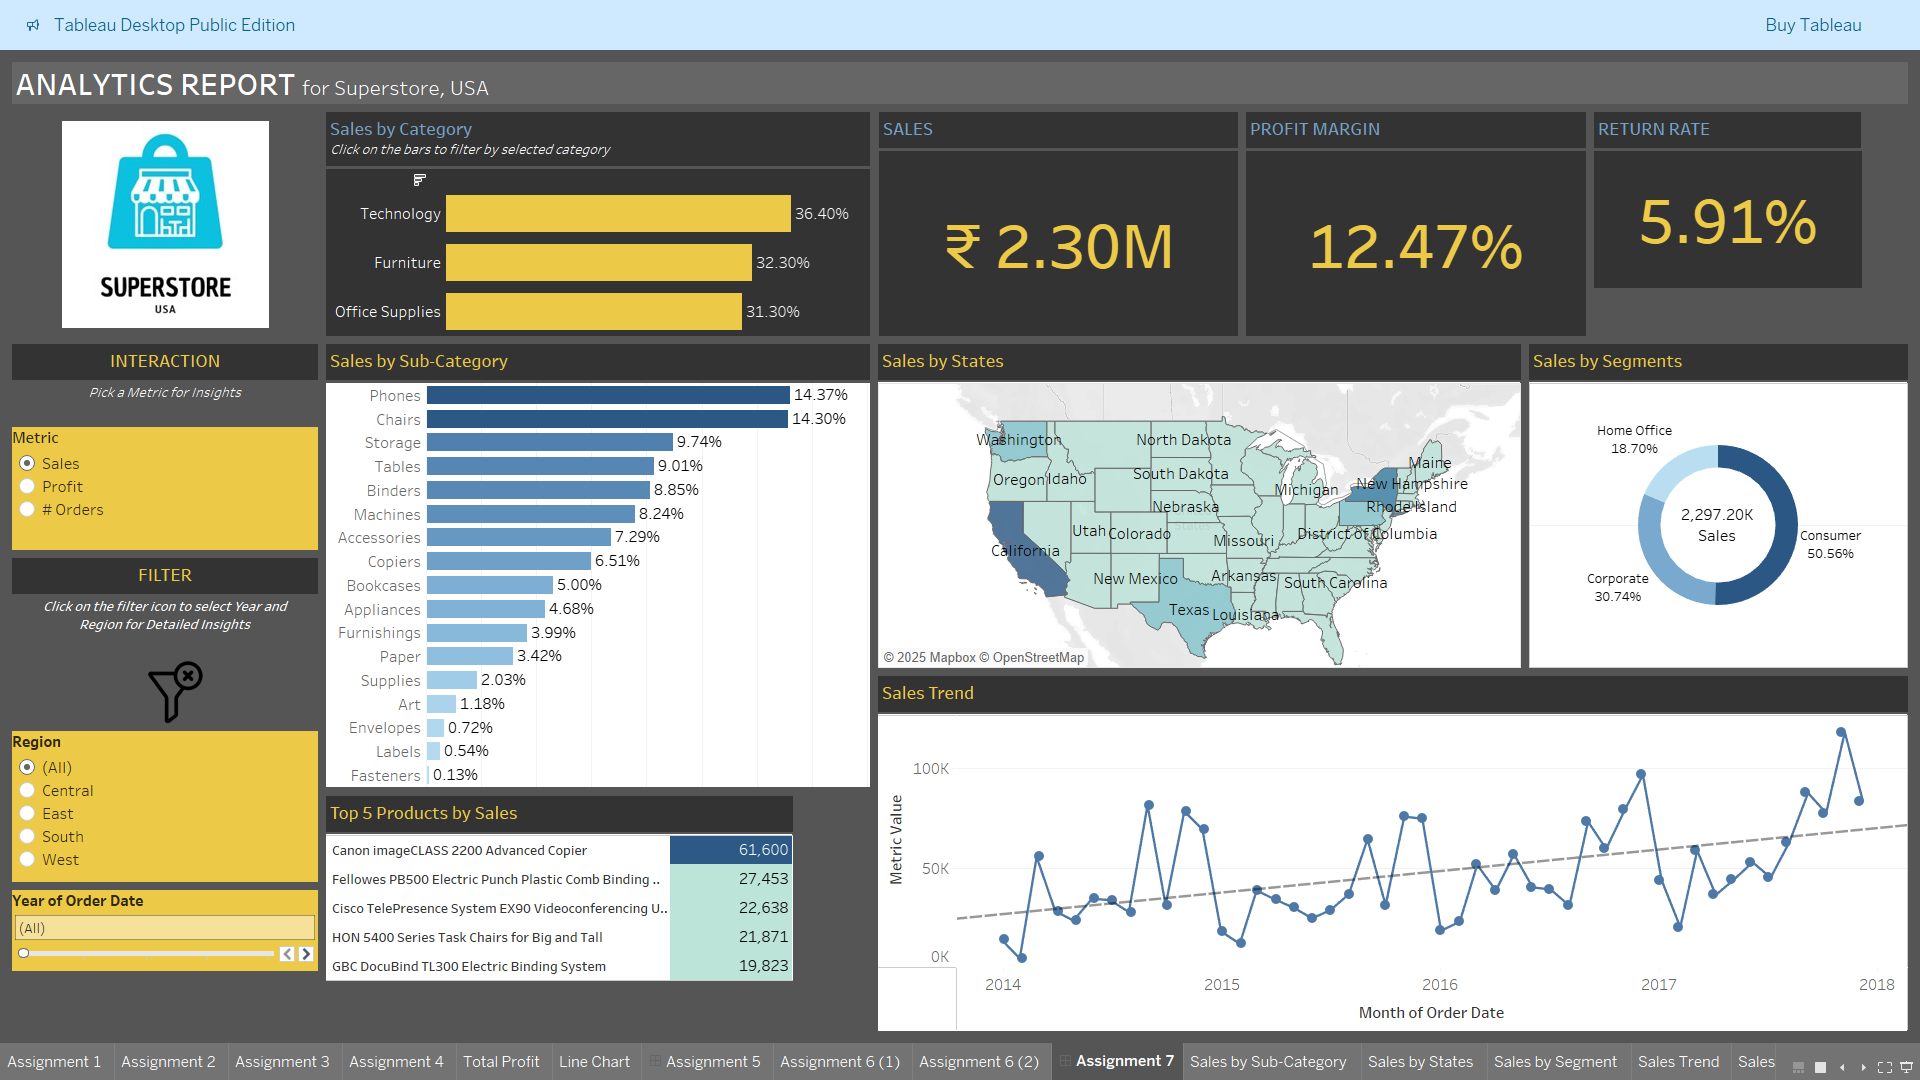

This screenshot's page, from the dashboard's own definition file:
{"tool":"tableau","page":{"name":"Assignment 7","canvas":[1000,1000],"units":"permille","ordinal":1},"visuals":[{"type":"title","box":[4.8,10,990.3,62.4]},{"type":"image","param":"Image/Picture3.jpg","box":[4.8,72.4,163.5,229.7]},{"type":"worksheet","title":"Metric","mark":"Automatic","rows":["Category"],"cols":["Calculation_1470143862358302721"],"box":[168.3,72.4,287.3,229.7]},{"type":"worksheet","title":"Sales","mark":"Automatic","box":[455.6,72.4,191.1,229.7]},{"type":"worksheet","title":"Profit","mark":"Automatic","box":[646.7,72.4,180.9,229.7]},{"type":"worksheet","title":"Return Rate","mark":"Automatic","box":[827.6,72.4,167.6,229.7]},{"type":"worksheet","title":"INTERACTION","mark":"Automatic","box":[4.8,302.1,163.5,82.4]},{"type":"worksheet","title":"Sales by Sub-Category","mark":"Automatic","rows":["Sub-Category"],"cols":["Calculation_1470143862358302721"],"box":[168.3,302.1,287.1,446.9]},{"type":"worksheet","title":"Sales by States","mark":"Automatic","box":[455.5,302.1,338.4,328.3]},{"type":"worksheet","title":"Sales by Segment","mark":"Pie","rows":["Calculation_3620894154861350912","Calculation_3620894154861350912"],"cols":["Calculation_836543690209021954"],"box":[793.8,302.1,201.3,328.3]},{"type":"parameter","param":"[Parameters].[Parameter 2 1]","box":[4.8,384.5,163.5,129.8]},{"type":"worksheet","title":"Filters","mark":"Text","box":[4.8,514.4,163.5,171]},{"type":"dashboard-object","box":[73.8,615.5,35.1,62.4]},{"type":"worksheet","title":"Sales Trend","mark":"Line","rows":["Calculation_1470143862358302721"],"cols":["Order Date","Order Date"],"box":[455.5,630.5,539.7,359.6]},{"type":"filter","title":"Filters","param":"[federated.1qvcew518fgdqx19o8rs90vi0m58].[none:Region:nk]","box":[4.8,685.4,163.5,198.5]},{"type":"worksheet","title":"Top 5 Products by Sales","mark":"Square","rows":["Product Name"],"box":[168.3,749.1,287.1,241]},{"type":"filter","title":"Filters","param":"[federated.1qvcew518fgdqx19o8rs90vi0m58].[yr:Order Date:ok]","box":[4.8,883.9,163.5,106.1]}]}

Visuals, with their boxes on the dashboard's canvas, which has no fixed pixel size, in thousandths of its width and height (x1, y1, x2, y2). These are canvas units, not pixel positions in the 1920x1080 screenshot, which may show the page scaled, cropped or inside an application window:
title: rect(5, 10, 995, 72)
image: rect(5, 72, 168, 302)
"Metric" worksheet: rect(168, 72, 456, 302)
"Sales" worksheet: rect(456, 72, 647, 302)
"Profit" worksheet: rect(647, 72, 828, 302)
"Return Rate" worksheet: rect(828, 72, 995, 302)
"INTERACTION" worksheet: rect(5, 302, 168, 384)
"Sales by Sub-Category" worksheet: rect(168, 302, 455, 749)
"Sales by States" worksheet: rect(456, 302, 794, 630)
"Sales by Segment" worksheet (Pie marks): rect(794, 302, 995, 630)
parameter: rect(5, 384, 168, 514)
"Filters" worksheet (Text marks): rect(5, 514, 168, 685)
dashboard-object: rect(74, 616, 109, 678)
"Sales Trend" worksheet (Line marks): rect(456, 630, 995, 990)
"Filters" filter: rect(5, 685, 168, 884)
"Top 5 Products by Sales" worksheet (Square marks): rect(168, 749, 455, 990)
"Filters" filter: rect(5, 884, 168, 990)
